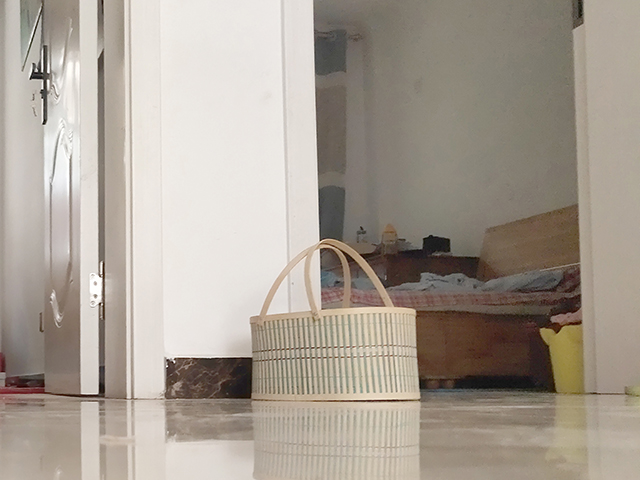bed: (319, 201, 582, 393)
carpet: (1, 385, 51, 396)
trashcan: (535, 318, 583, 396)
